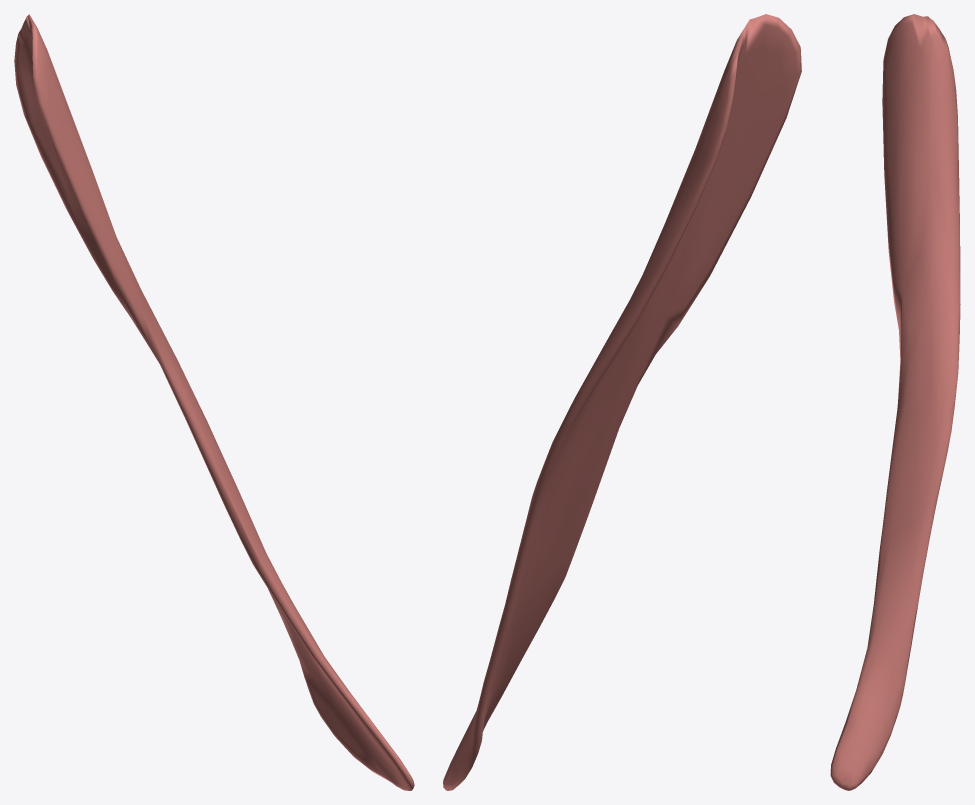
3 renders of one model, left to right at view 1: azimuth 30°, elevation 25°; view 2: azimuth 150°, elevation 25°; view 3: azimuth 270°, elevation 25°, orthographic. The views are drawn at different scales.
Parts seen in each view (by area): view 1: ZA_de6eb58e3b3b5eda; view 2: ZA_de6eb58e3b3b5eda; view 3: ZA_de6eb58e3b3b5eda.
Boxes of the visible parts, bbox=[...] form: ZA_de6eb58e3b3b5eda: bbox=[14, 14, 414, 790]; ZA_de6eb58e3b3b5eda: bbox=[443, 14, 801, 790]; ZA_de6eb58e3b3b5eda: bbox=[830, 14, 960, 790].
Size of the model in its own units: 0.0213 by 0.0476 by 0.00865.
